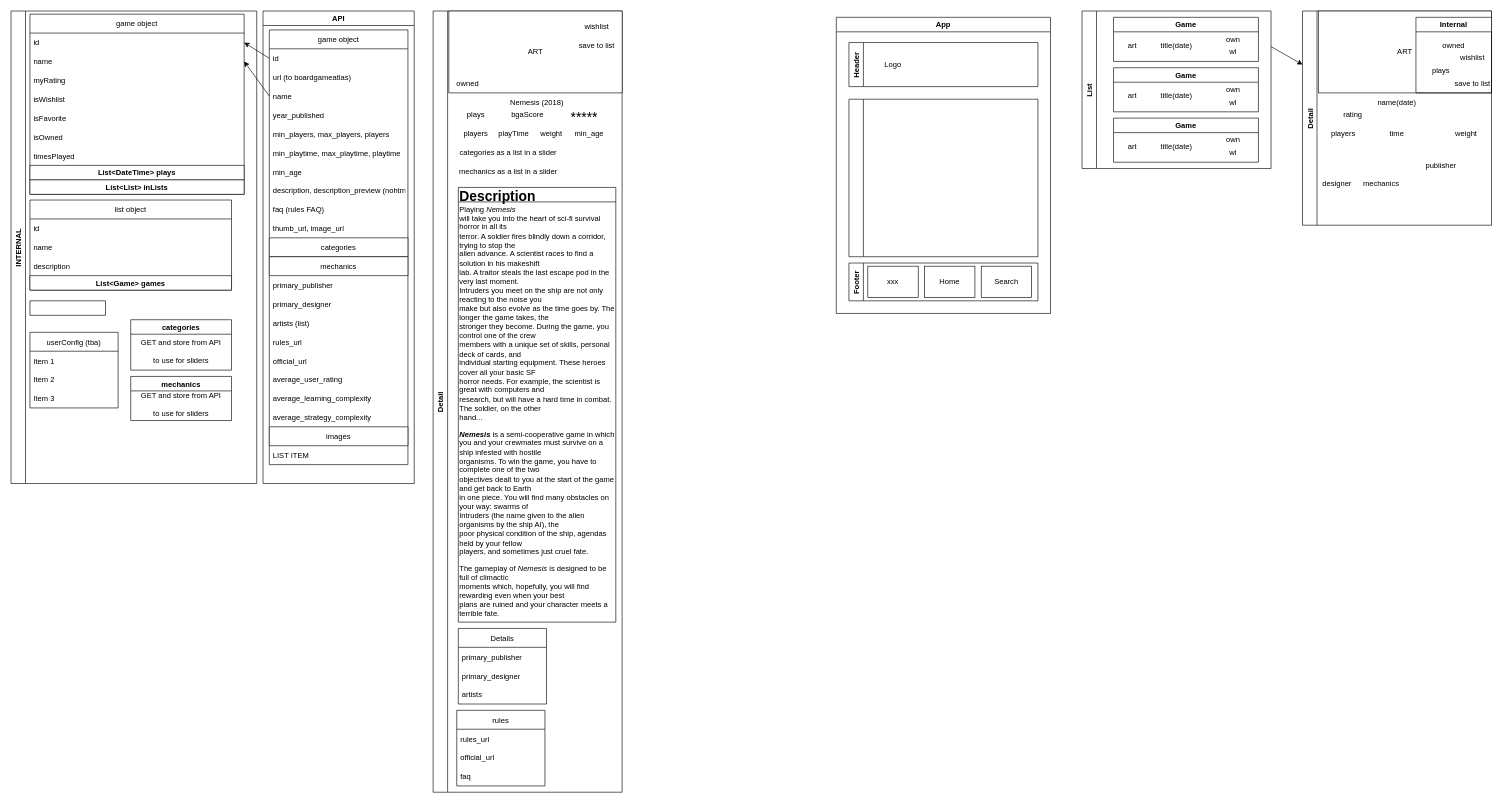
Some shapes in this 1503 by 803 pixel diagram are drawn without their labels. Here are the shapes that lost their labels. From the top down, the centre of each, then its label:
At (943,178): "view".
At (67,307): "Calendar (TBA)".
